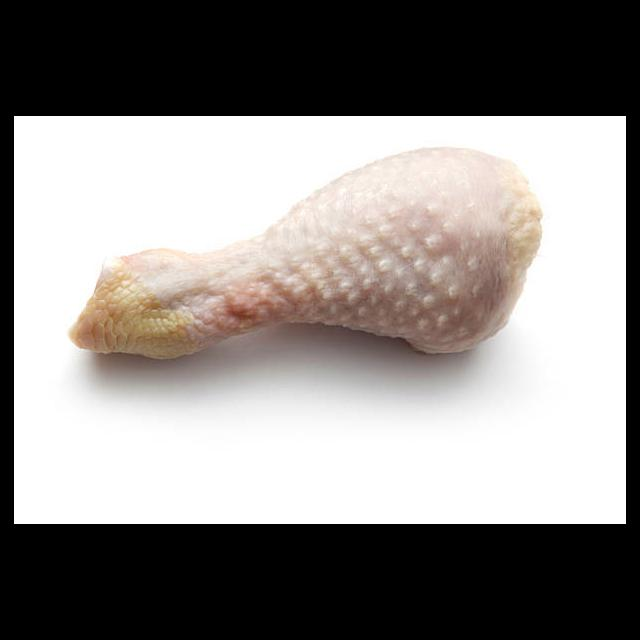chicken: (66, 146, 543, 362)
